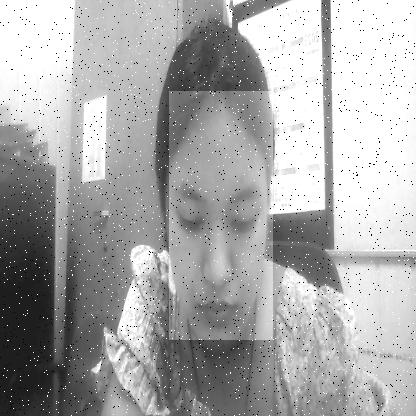Normal: (169, 91, 273, 340)
